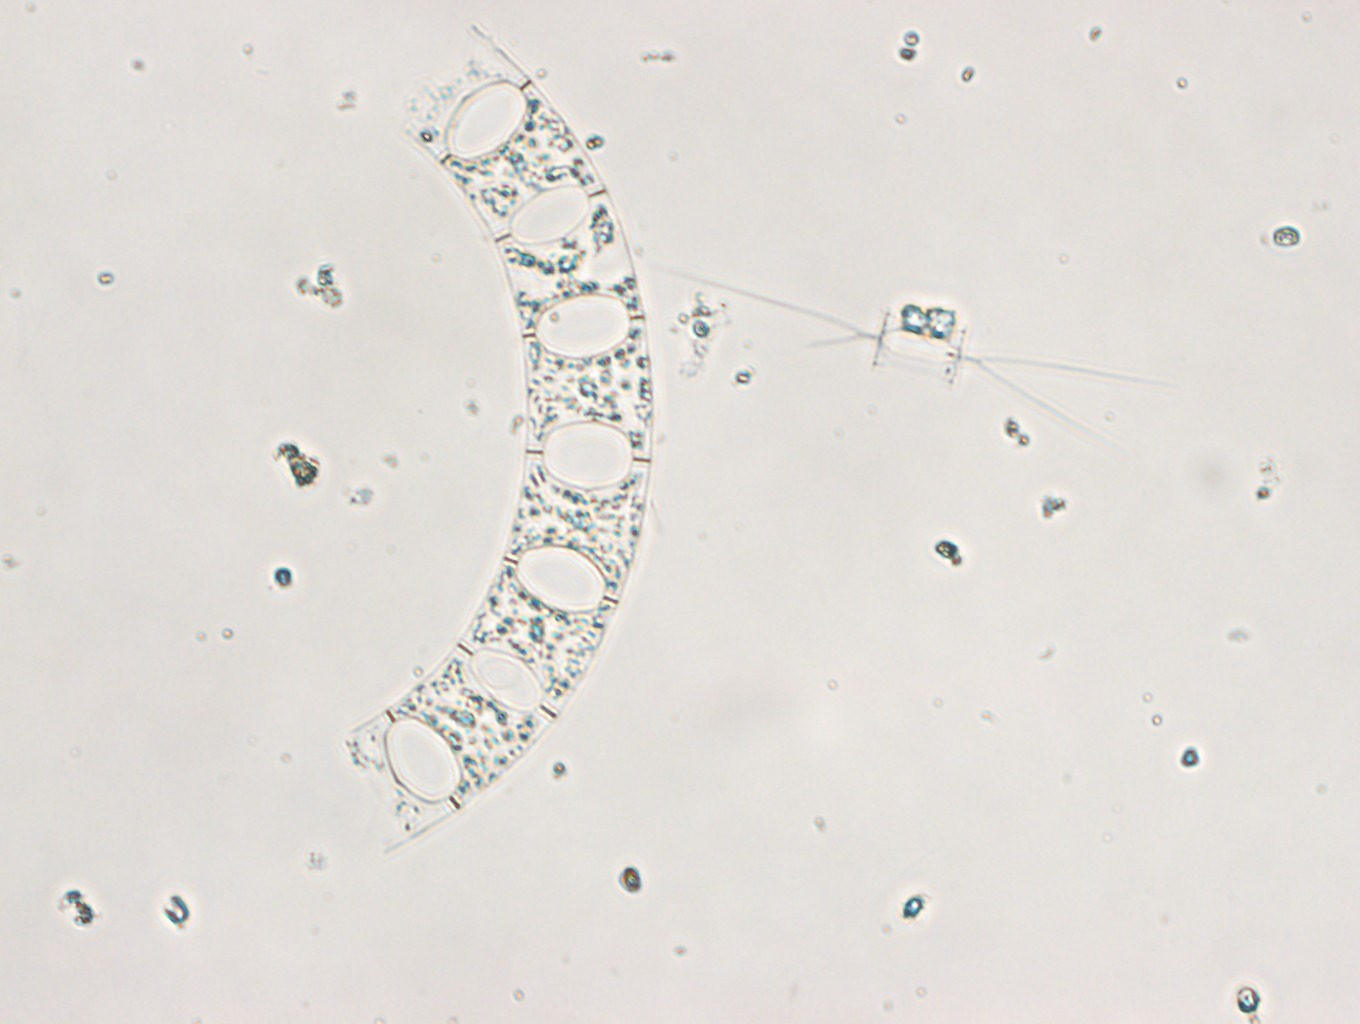chaetoceros: (654, 264, 1179, 459)
eucampia: (342, 24, 652, 853)
